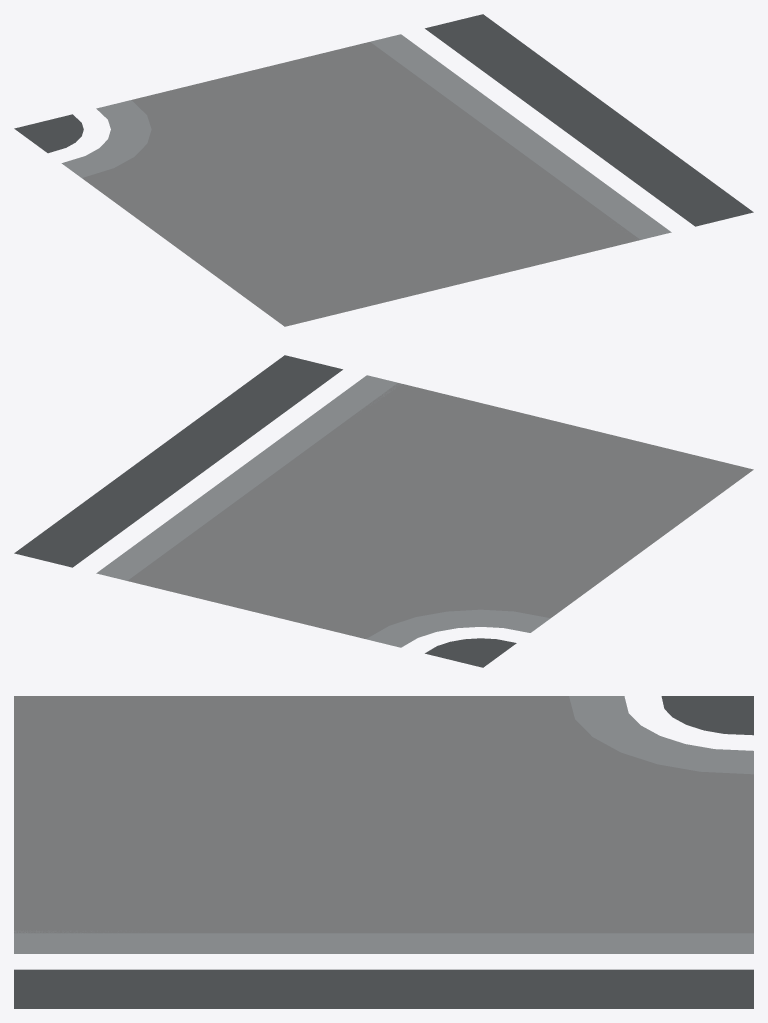
Rendered from Ceiling_type_B_011_004.glb.
3 views of the same model, one above another, from view 1: azimuth 30°, elevation 25°; view 2: azimuth 150°, elevation 25°; view 3: azimuth 270°, elevation 25° (orthographic). The views are drawn at different scales.
Parts seen in each view (by area): view 1: Ceiling_type_B_011.004; view 2: Ceiling_type_B_011.004; view 3: Ceiling_type_B_011.004.
Boxes of the visible parts, bbox=[...] form: Ceiling_type_B_011.004: bbox=[14, 14, 753, 326]; Ceiling_type_B_011.004: bbox=[14, 355, 753, 667]; Ceiling_type_B_011.004: bbox=[14, 696, 753, 1008].
Size of the model in its own units: 4 by 0.057 by 4.
2 materials, 2 textured.
